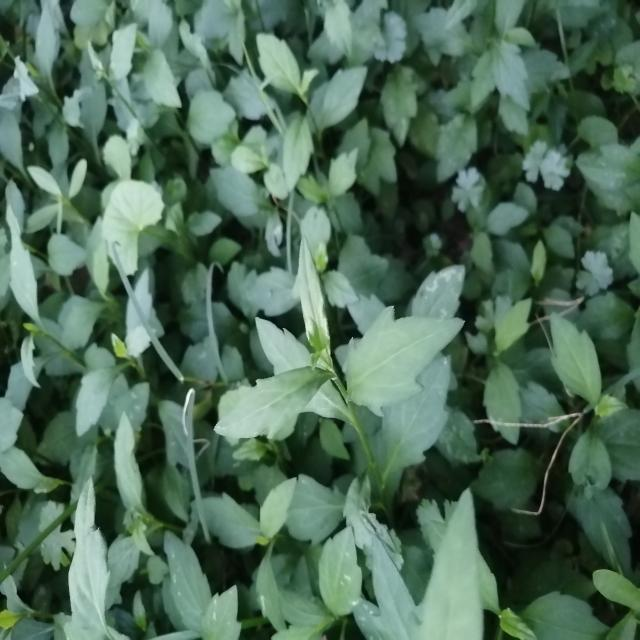Indian aster: (218, 245, 468, 482)
